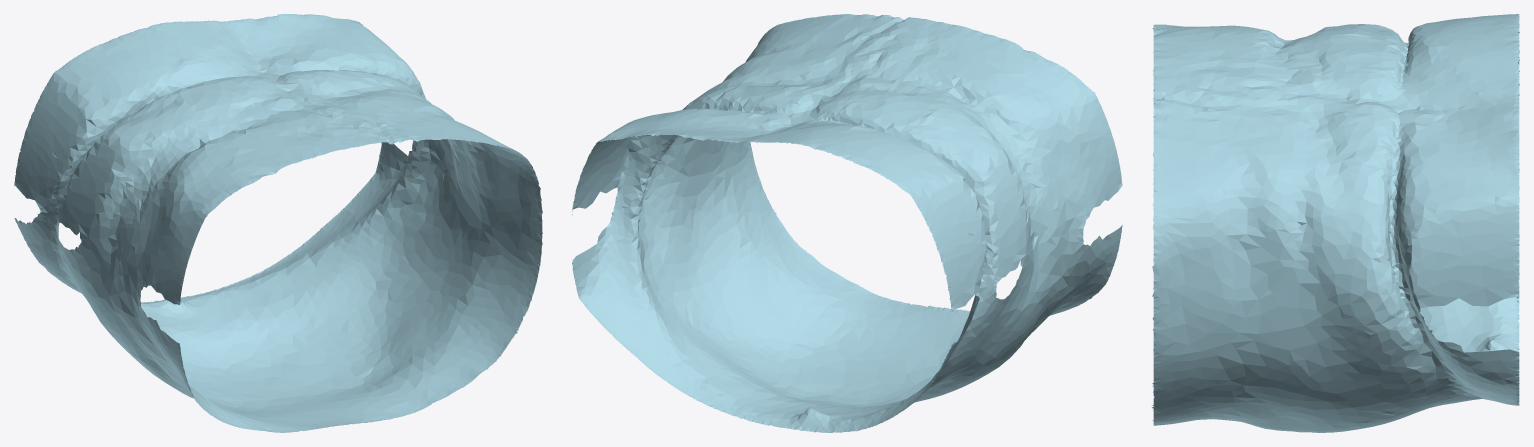
File: skin.obj
3 renders of one model, left to right at view 1: azimuth 30°, elevation 25°; view 2: azimuth 150°, elevation 25°; view 3: azimuth 270°, elevation 25°, orthographic. The views are drawn at different scales.
Visible parts, largest first — view 1: grp1; view 2: grp1; view 3: grp1.
Boxes of the visible parts, bbox=[...] form: grp1: bbox=[14, 14, 542, 432]; grp1: bbox=[571, 14, 1122, 432]; grp1: bbox=[1152, 14, 1519, 432].
Size of the model in its own units: 319 by 251 by 249.
